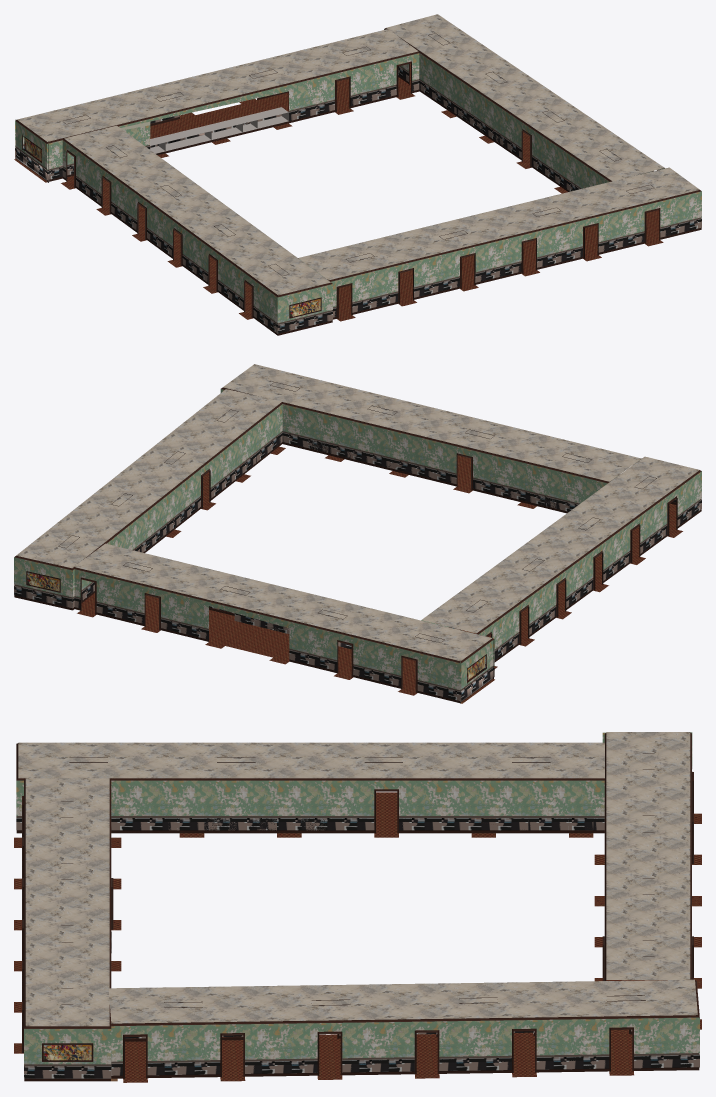
Rendered from Appartments.fbx.
3 renders of one model, top to bottom at view 1: azimuth 30°, elevation 25°; view 2: azimuth 150°, elevation 25°; view 3: azimuth 270°, elevation 25°, orthographic. The views are drawn at different scales.
Parts seen in each view (by area): view 1: Material2_7.003, Material2_7, Material2_7.001, Material2_7.002, Material2_4.003, Material2_4.002, Material2, Material2_4, Material2_4.001, Material2_5, Material2_2.003, Material2_5.003 (+9 smaller); view 2: Material2_7, Material2_7.003, Material2_7.002, Material2_7.001, Material2_4.003, Material2_4, Material2_4.001, Material2_4.002, Material2_5, Material2, Material2_2, Material2.003 (+9 smaller); view 3: Material2_7.002, Material2_7.001, Material2_7.003, Material2_7, Material2_4.001, Material2_4.002, Material2.002, Material2.001, Material2_5.001, Material2_2.001, Material2_2.002, Material2_2.003 (+9 smaller).
Part boxes in pixels (x1,y1,x2,y2): Material2_7.003: (298, 167, 699, 280); Material2_7: (17, 29, 418, 141); Material2_7.001: (386, 14, 664, 181); Material2_7.002: (64, 125, 330, 295); Material2_4.003: (299, 191, 701, 306); Material2_4.002: (62, 140, 332, 323); Material2: (15, 80, 419, 182); Material2_4: (15, 53, 419, 169); Material2_4.001: (384, 29, 664, 188); Material2_5: (14, 77, 414, 182); Material2_2.003: (298, 185, 701, 319); Material2_5.003: (337, 210, 663, 321); Material2_7: (74, 543, 491, 661); Material2_7.003: (223, 364, 641, 481); Material2_7.002: (421, 456, 699, 633); Material2_7.001: (16, 389, 281, 568); Material2_4.003: (220, 389, 640, 503); Material2_4: (74, 569, 494, 690); Material2_4.001: (14, 404, 282, 597); Material2_4.002: (421, 471, 701, 649); Material2_5: (77, 593, 494, 703); Material2: (74, 598, 494, 703); Material2_2: (74, 562, 494, 703); Material2.003: (282, 432, 610, 511); Material2_7.002: (18, 742, 604, 778); Material2_7.001: (108, 979, 697, 1023); Material2_7.003: (25, 778, 109, 1026); Material2_7: (606, 732, 690, 979); Material2_4.001: (111, 1017, 699, 1061); Material2_4.002: (16, 780, 604, 815); Material2.002: (16, 818, 604, 830); Material2.001: (111, 1029, 699, 1075); Material2_5.001: (123, 1030, 633, 1082); Material2_2.001: (111, 980, 699, 1078); Material2_2.002: (16, 743, 604, 833); Material2_2.003: (22, 779, 113, 1081).
Size of the model in its own units: 1268 by 110 by 1237.
